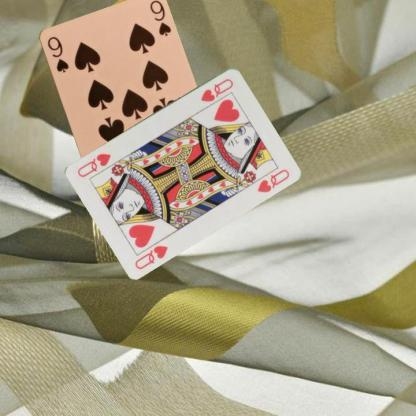9s: (43, 33, 70, 74)
Qh: (198, 75, 235, 103), (132, 242, 169, 270)
